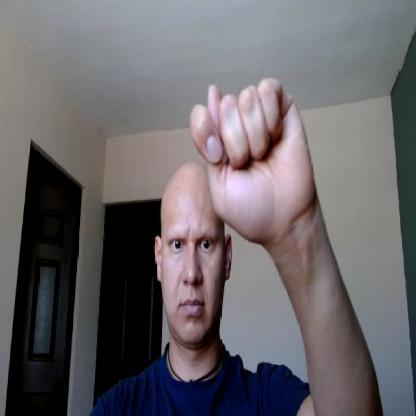T: (191, 77, 312, 245)
